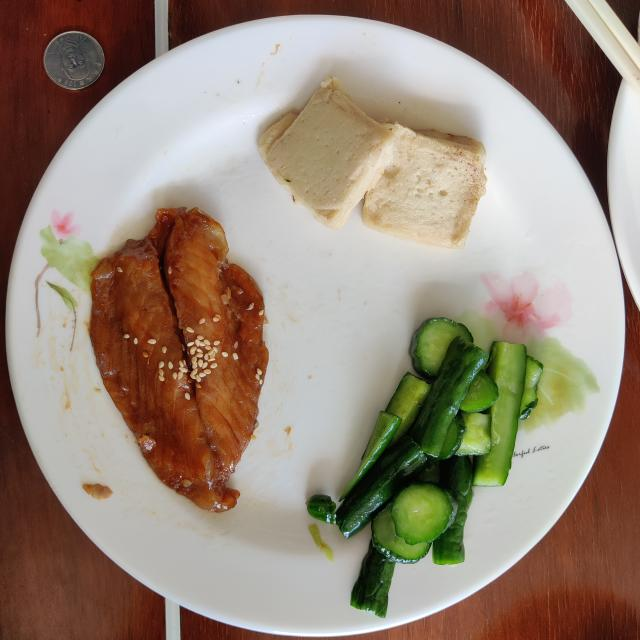Kabayaki sea bream fillet: (90, 208, 269, 511)
coin: (44, 31, 104, 90)
creamy tofu -without sauce-: (259, 76, 486, 249)
cucumber: (308, 318, 542, 618)
